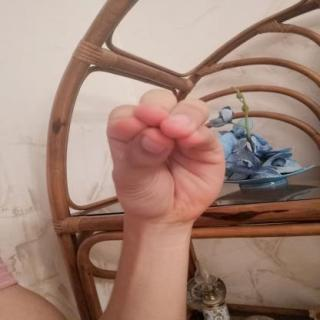HA: (86, 76, 250, 248)
